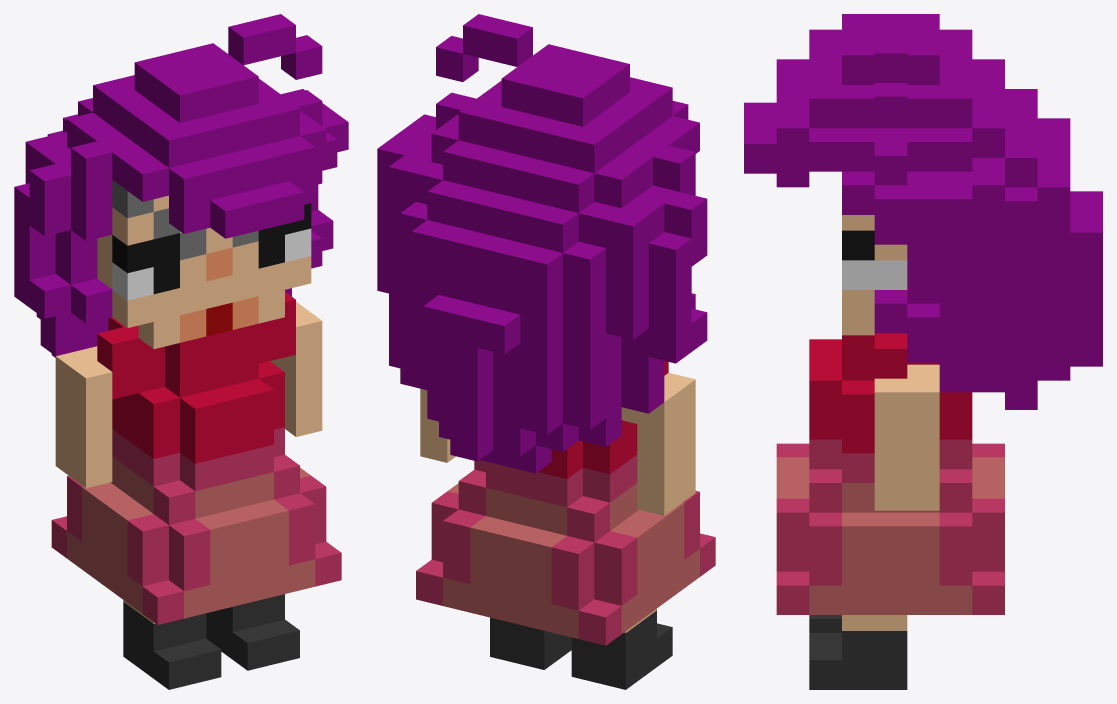
Rendered from Granny-6.obj.
3 views of the same model, side by side, from view 1: azimuth 30°, elevation 25°; view 2: azimuth 150°, elevation 25°; view 3: azimuth 270°, elevation 25° (orthographic). The views are drawn at different scales.
Size of the model in its own units: 1.1 by 2.2 by 1.1.
Materials: 1 (1 with a texture image).
